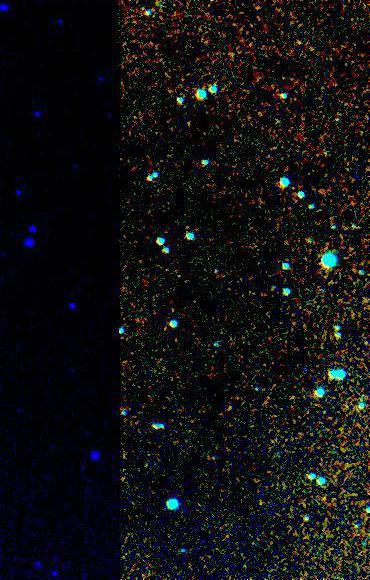star: (298, 35, 328, 65)
